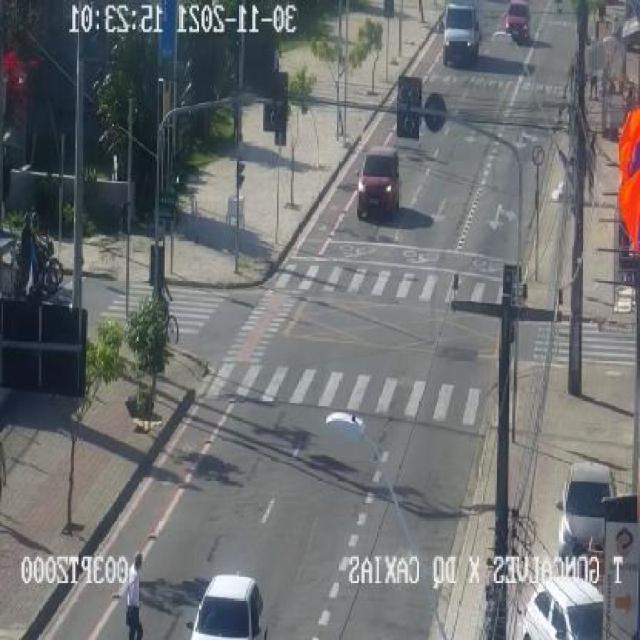bicycle: (146, 278, 180, 344)
car: (556, 460, 616, 566), (186, 574, 268, 640), (523, 576, 605, 639), (356, 147, 402, 218), (438, 0, 484, 63), (503, 1, 531, 42)
motorbike: (10, 215, 58, 296), (10, 212, 64, 282), (126, 552, 146, 640)
